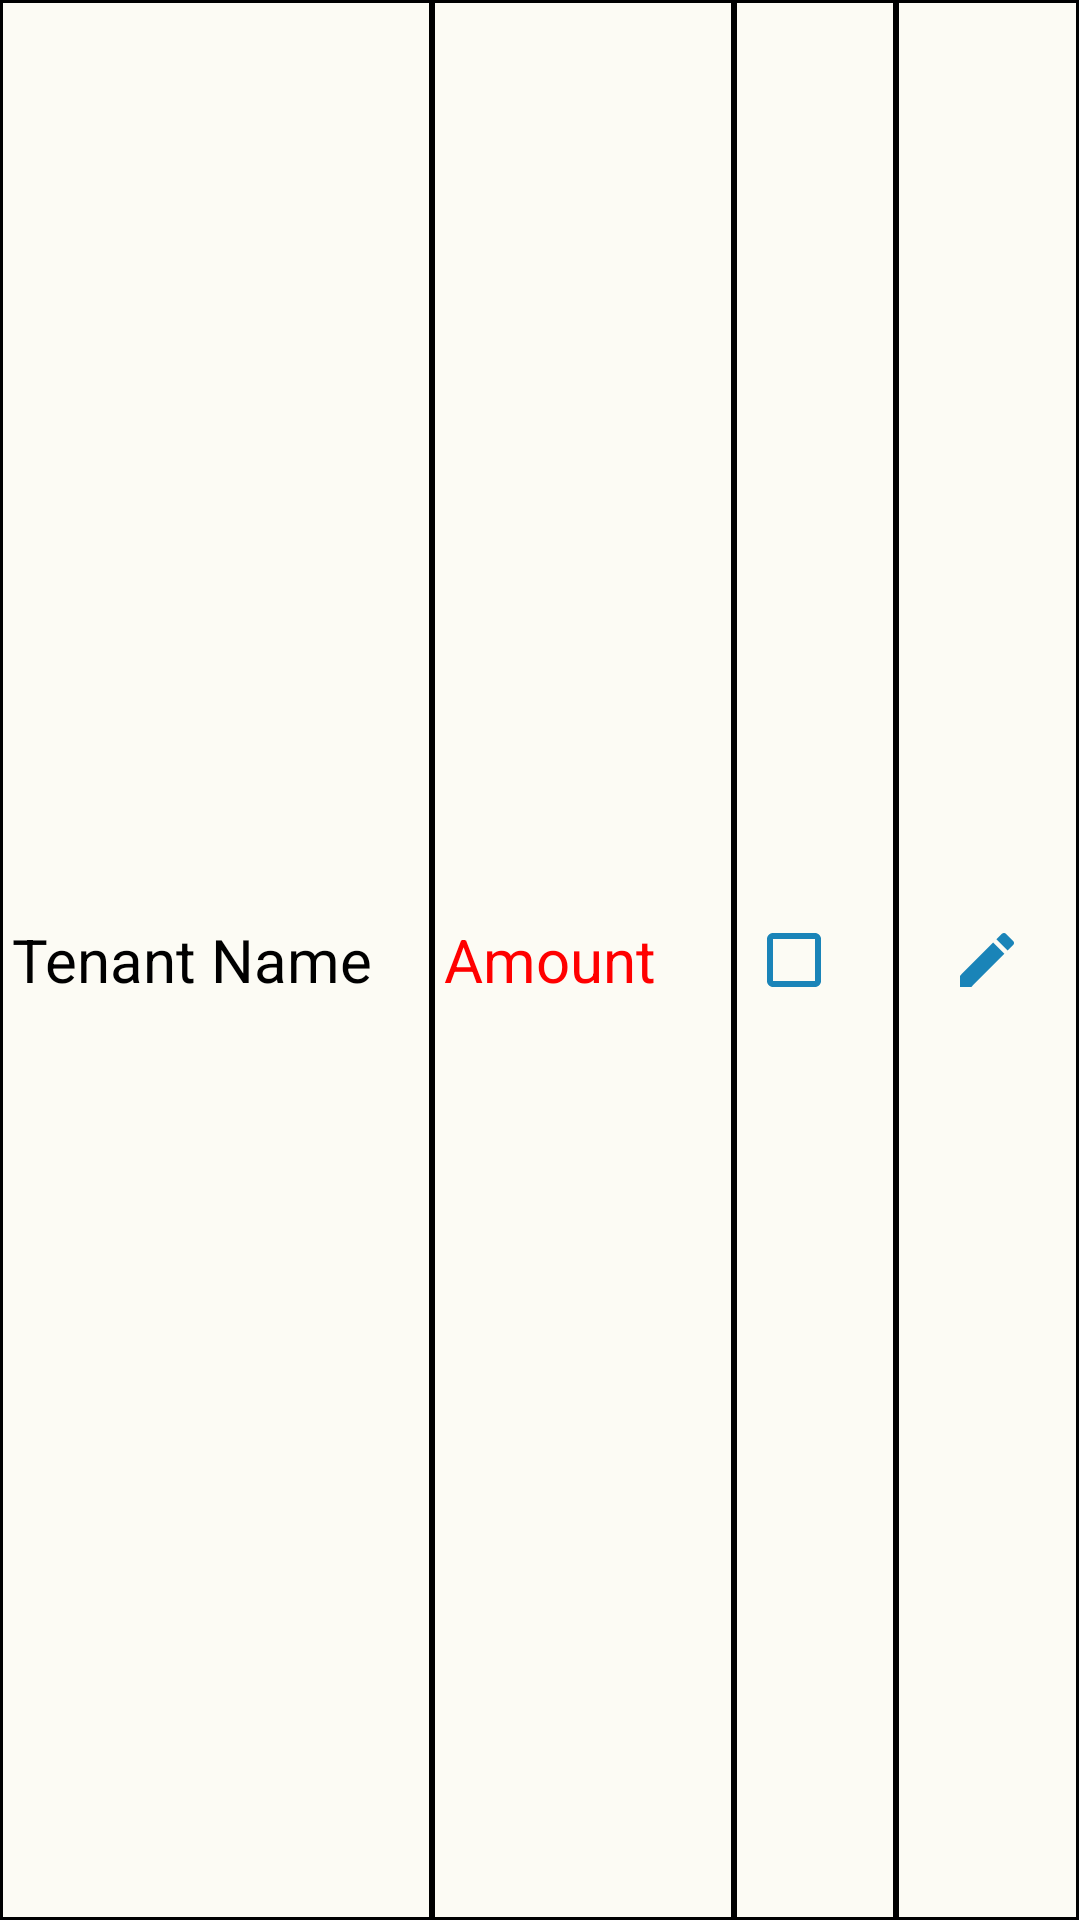

Screen size 1080 x 1920. Icon name, then its center in pixels as (x=x, y=y):
edit: (x=987, y=960)
